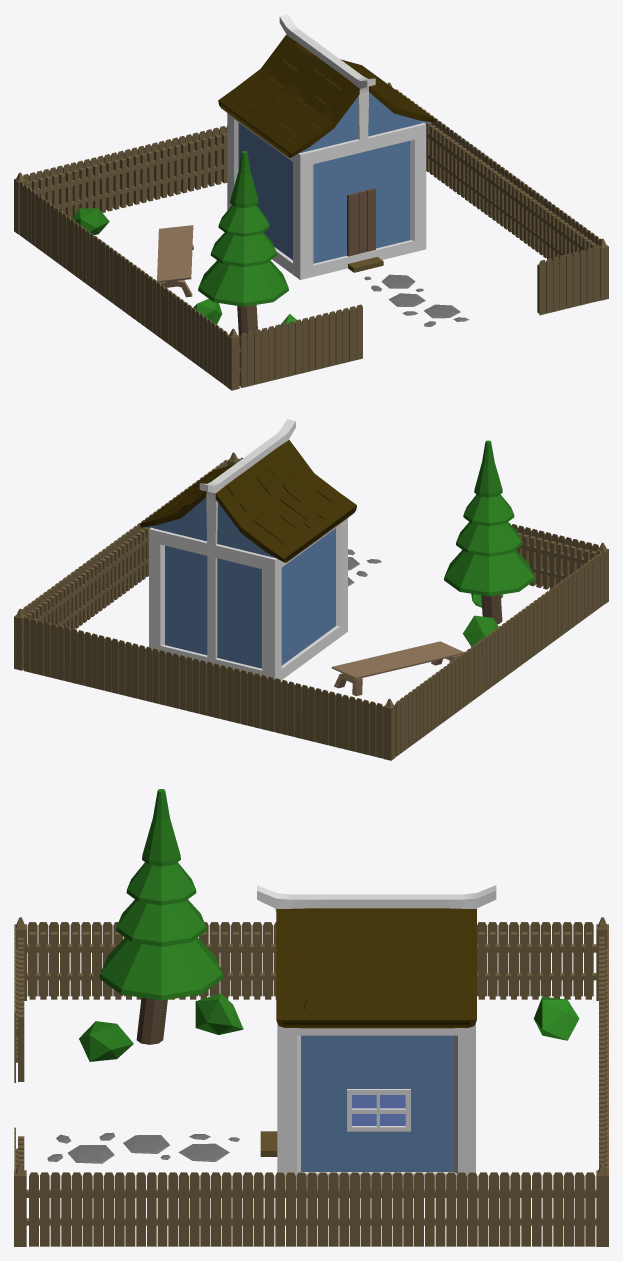
The model's file is 1lvl_blue.fbx.
3 views of the same model, one above another, from view 1: azimuth 30°, elevation 25°; view 2: azimuth 150°, elevation 25°; view 3: azimuth 270°, elevation 25° (orthographic). The views are drawn at different scales.
Parts seen in each view (by area): view 1: blue; view 2: blue; view 3: blue.
Part boxes in pixels (x1=…): blue: x1=14, y1=14, x2=608, y2=390; blue: x1=14, y1=419, x2=608, y2=760; blue: x1=14, y1=789, x2=608, y2=1246.
Bounding box in the file's own units: 95.66 × 46.2 × 95.74.
